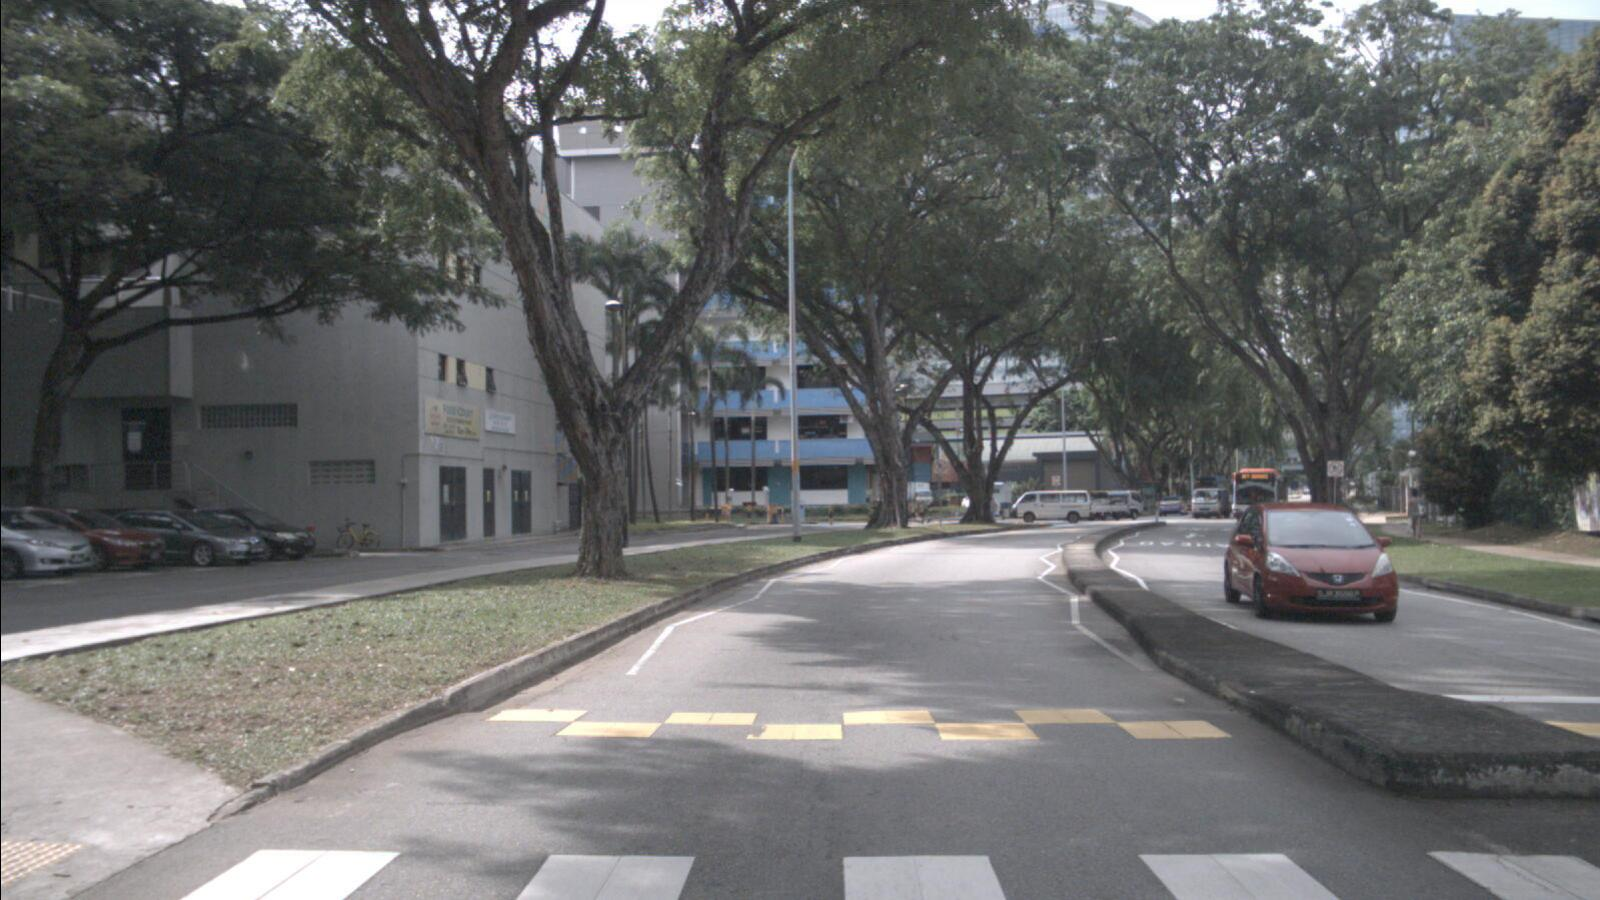human.pedestrian.adult-pedestrian.moving: (1406, 488, 1427, 540)
human.pedestrian.adult-pedestrian.standing: (911, 492, 918, 519)
